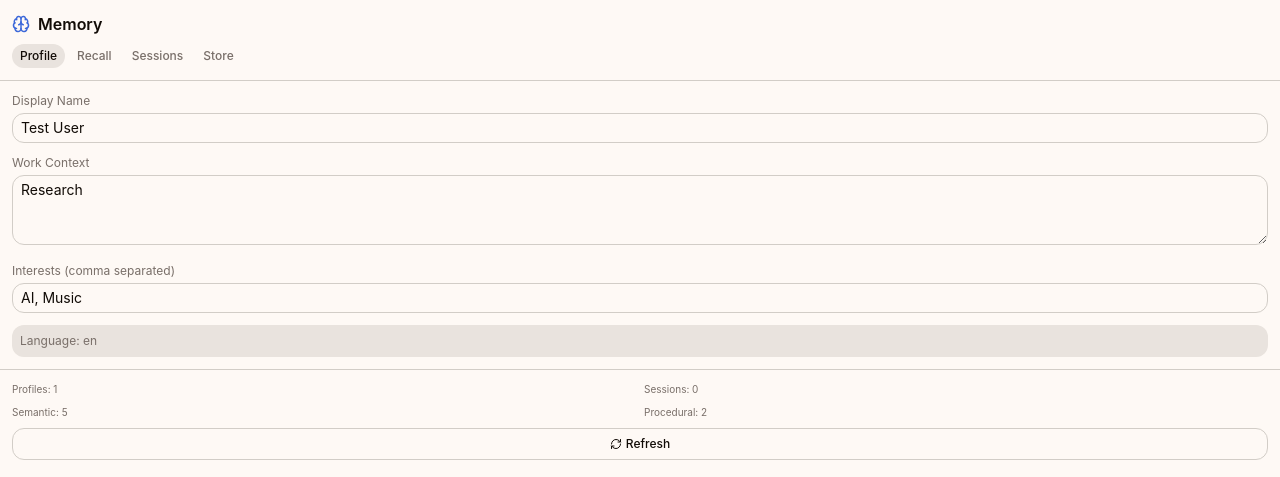
Scenario: MemoryPanel › switches to recall tab on click
Click the button "Recall" at (94, 56), box [69,44,120,68]
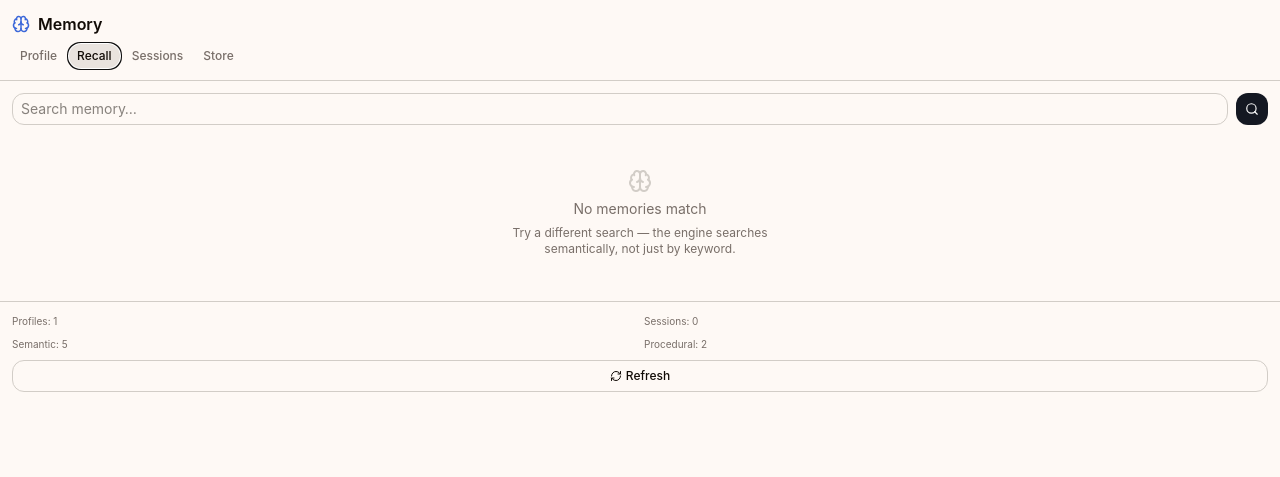
Expected: the field with placeholder "Search memory…" is shown, [12,93,1228,125]
